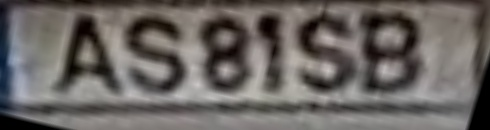1: (254, 13, 285, 101)
8: (198, 13, 255, 99)
A: (48, 10, 129, 101)
B: (359, 10, 424, 100)
S: (122, 14, 188, 103), (296, 8, 358, 99)
